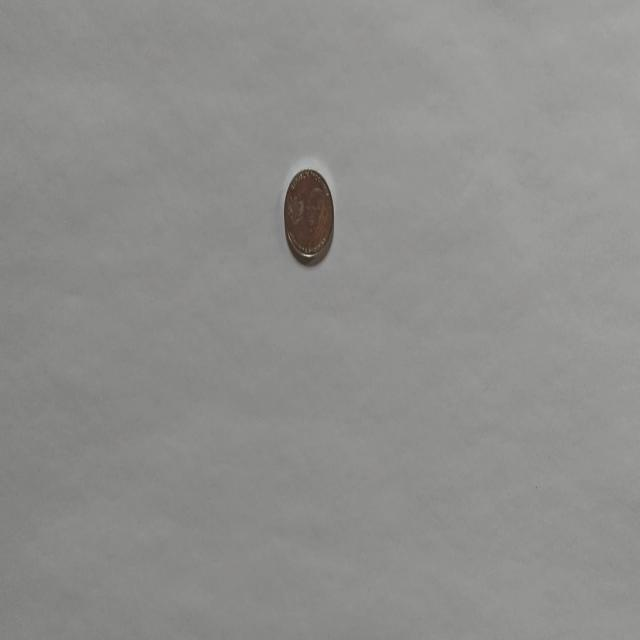lima ratus rupiah: (282, 166, 334, 265)
